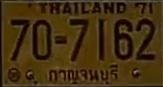0: (32, 19, 51, 59)
1: (98, 18, 103, 59)
2: (136, 18, 154, 59)
6: (113, 18, 132, 59)
7: (10, 18, 29, 60), (69, 18, 88, 59)
KRI: (47, 62, 121, 85)
